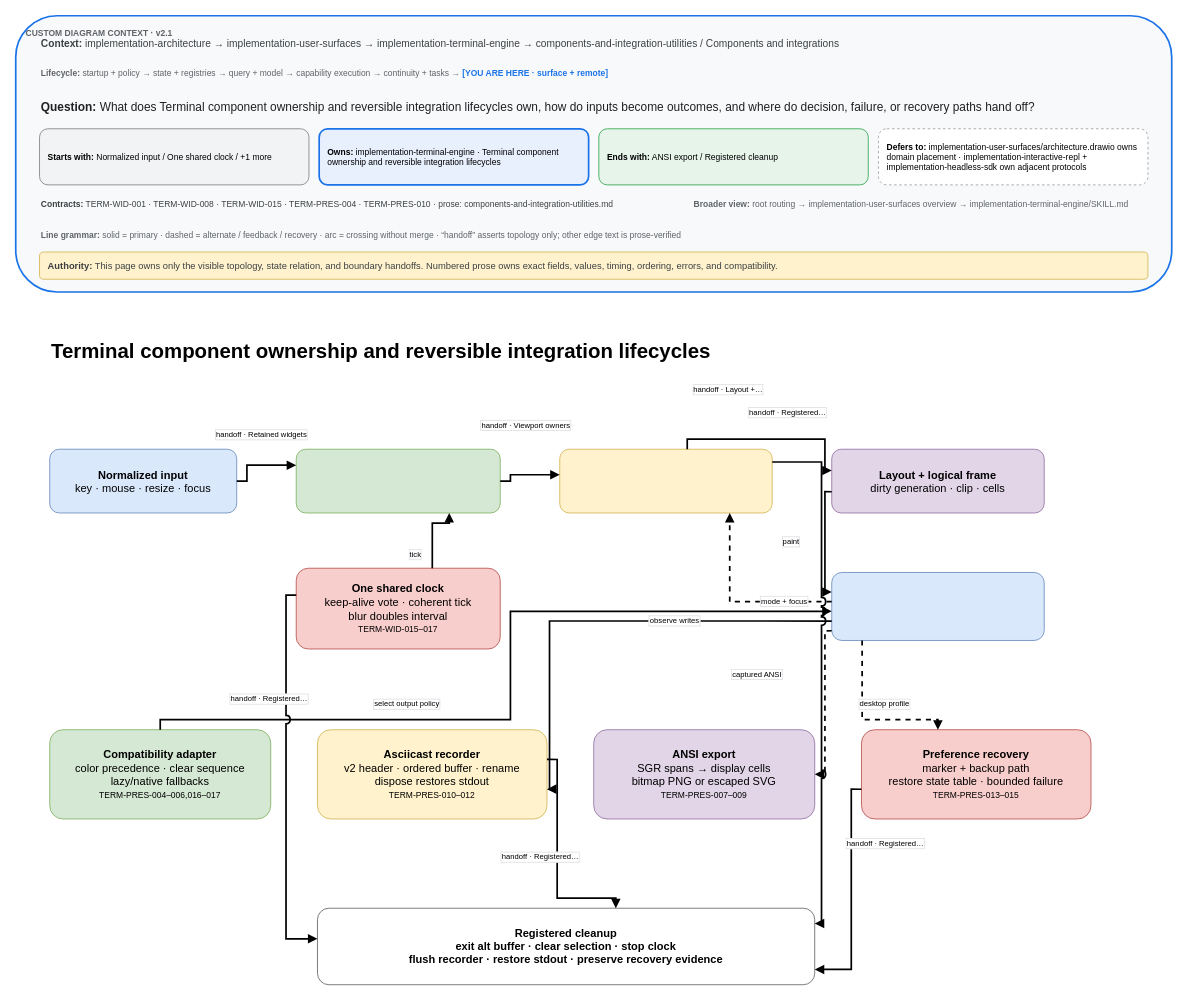
This 1187x1000 diagram has some shape labels left out. Each missing label, with the centre of its shape:
Retained widgets Box · Text · Button · Link TERM-WID-001–007: point 397,480
Terminal process boundary ANSI output · mode state · stdout: point 937,606
Viewport owners alternate screen · scroll box TERM-WID-008–014: point 665,480
